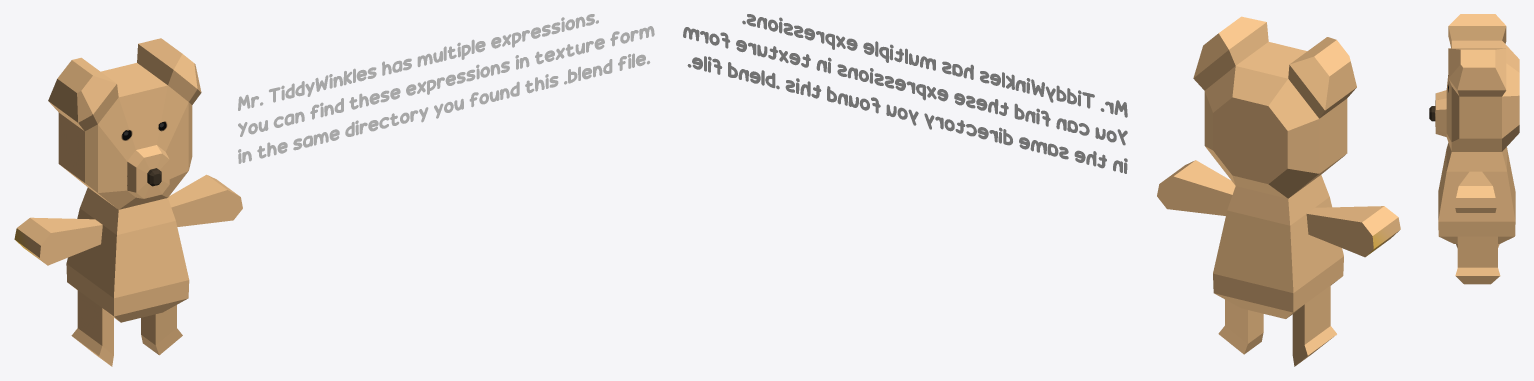
The model's file is tiddy.fbx.
The picture shows the model from 3 angles, left to right: view 1: azimuth 30°, elevation 25°; view 2: azimuth 150°, elevation 25°; view 3: azimuth 270°, elevation 25°; orthographic projection. The views are drawn at different scales.
Parts seen in each view (by area): view 1: Tiddy, Info; view 2: Tiddy, Info; view 3: Tiddy.
Boxes of the visible parts, box(x1,y1,x2,y2) form: Tiddy: box(14, 38, 242, 366); Info: box(238, 14, 654, 163); Tiddy: box(1157, 16, 1400, 366); Info: box(683, 14, 1127, 173); Tiddy: box(1429, 14, 1519, 284).
Size of the model in its own units: 578 by 256 by 86.37.
1 material, 1 textured.
